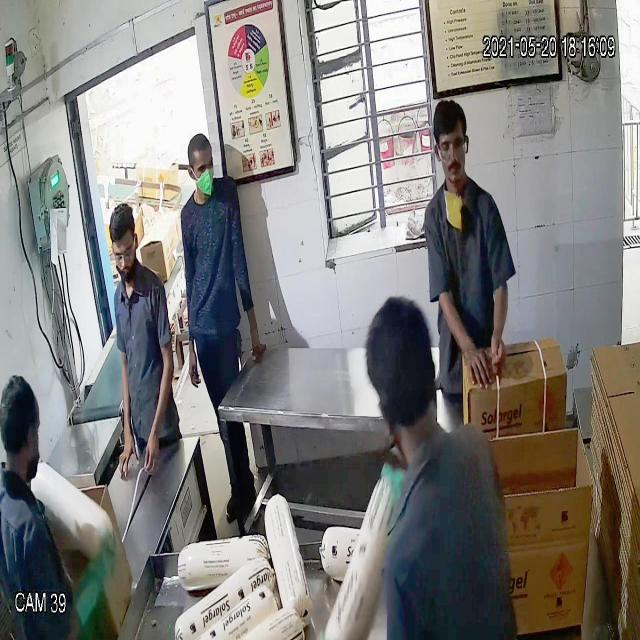glasses: (433, 134, 476, 166), (104, 238, 144, 268)
